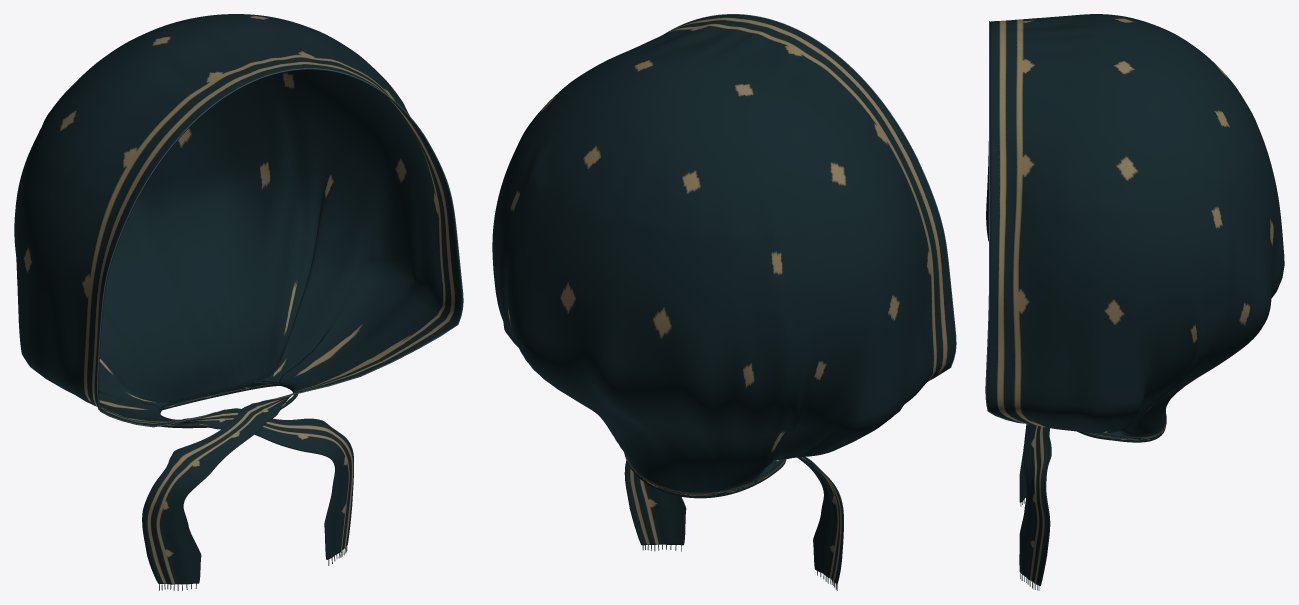
Rendered from Masculine-buttonup-compact-pashmina248-headgear.glb.
3 views of the same model, side by side, from view 1: azimuth 30°, elevation 25°; view 2: azimuth 150°, elevation 25°; view 3: azimuth 270°, elevation 25° (orthographic). The views are drawn at different scales.
Parts seen in each view (by area): view 1: 226 headgear / Headwear / continuous woven pashmina239, 226 headgear / Headwear / face edge239; view 2: 226 headgear / Headwear / continuous woven pashmina239, 226 headgear / Headwear / face edge239; view 3: 226 headgear / Headwear / continuous woven pashmina239, 226 headgear / Headwear / face edge239.
Boxes of the visible parts, x1,y1,x2,y2 form: 226 headgear / Headwear / continuous woven pashmina239: (14,14,462,584); 226 headgear / Headwear / face edge239: (97,68,463,427); 226 headgear / Headwear / continuous woven pashmina239: (492,14,955,584); 226 headgear / Headwear / face edge239: (665,14,956,380); 226 headgear / Headwear / continuous woven pashmina239: (986,14,1284,585); 226 headgear / Headwear / face edge239: (985,21,1023,423).
Bounding box in the file's own units: 1.03 × 1.35 × 0.7123.
Materials: 3 (1 with a texture image).
